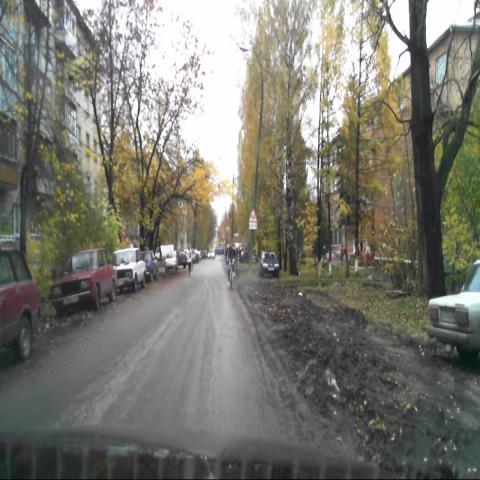1_23: (250, 208, 257, 222)
